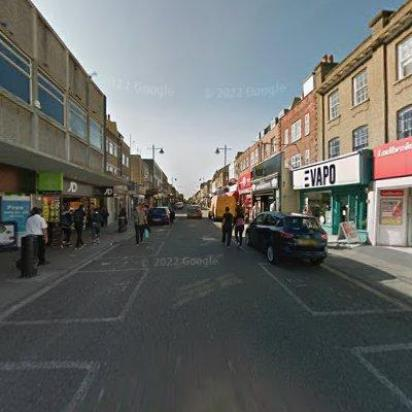moving-car: (188, 206, 202, 220)
stationary-car-onstreet: (245, 209, 327, 266), (144, 206, 170, 228), (161, 204, 175, 222), (174, 202, 182, 210)
stationary-light-truck-onstreet: (209, 193, 237, 223)
